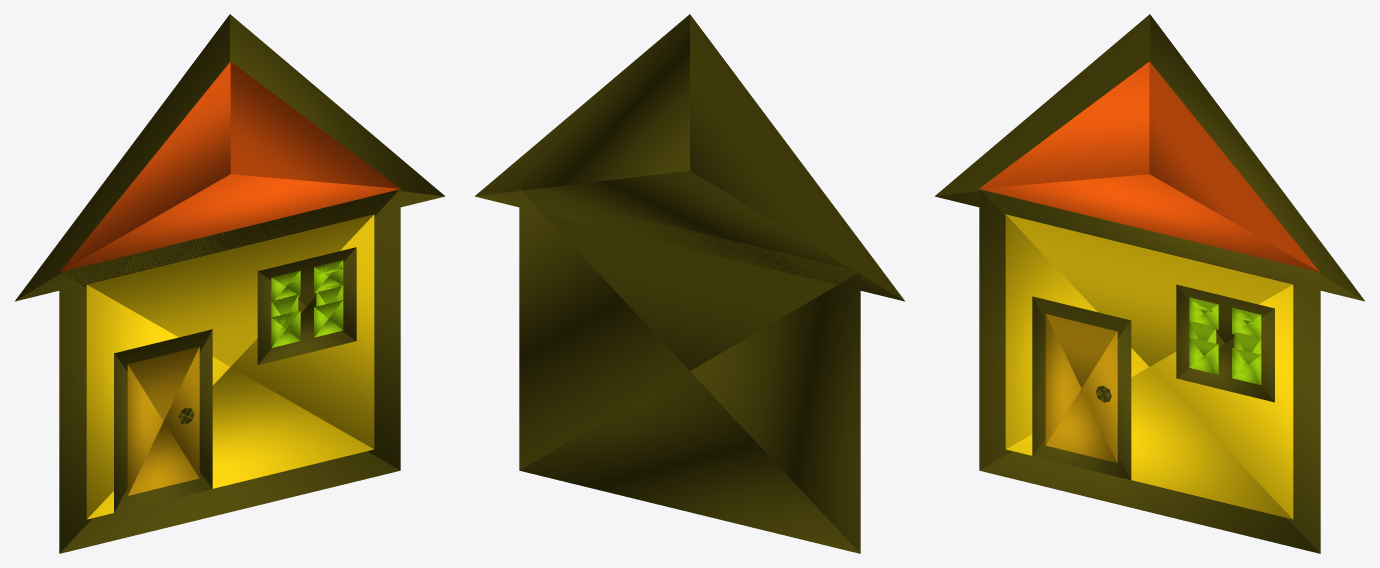
File: house.glb
3 renders of one model, left to right at view 1: azimuth 30°, elevation 25°; view 2: azimuth 150°, elevation 25°; view 3: azimuth 330°, elevation 25°, orthographic.
Visible parts, largest first — view 1: house; view 2: house; view 3: house.
Boxes of the visible parts, bbox=[...] form: house: bbox=[14, 14, 445, 553]; house: bbox=[474, 14, 905, 553]; house: bbox=[934, 14, 1365, 553].
Size of the model in its own units: 0.96 by 1.06 by 0.00498.
